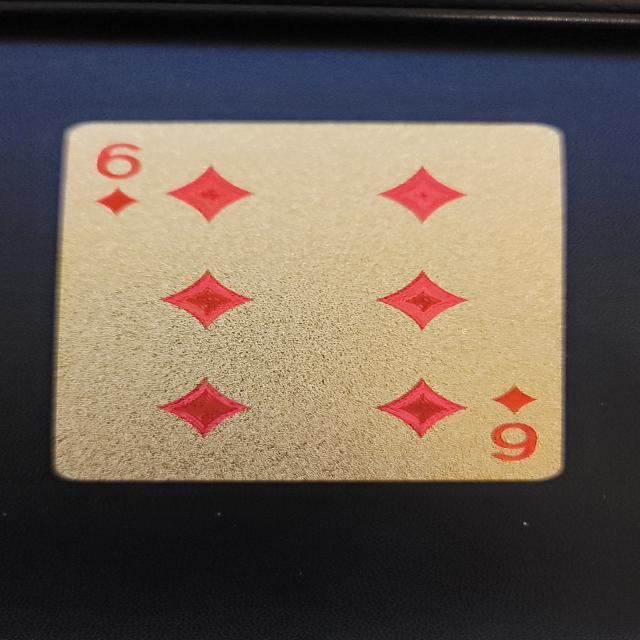6 of diamonds: (51, 120, 565, 483)
